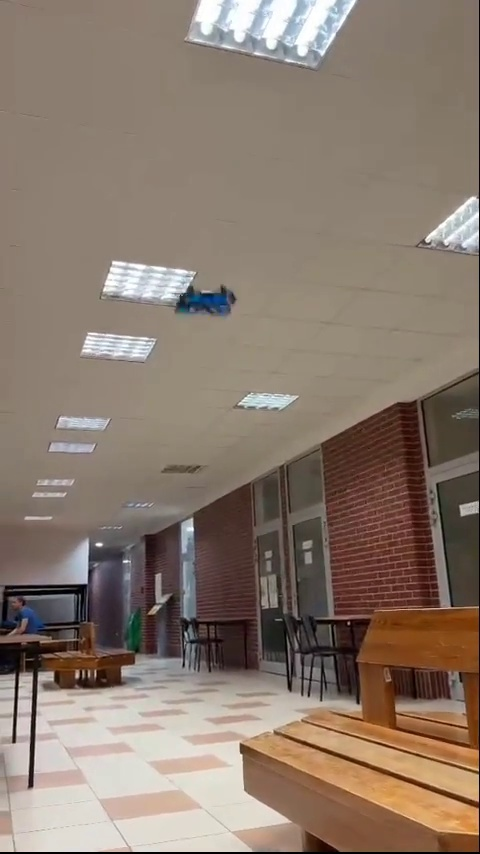drone: (175, 284, 244, 316)
no vest: (2, 593, 45, 635)
